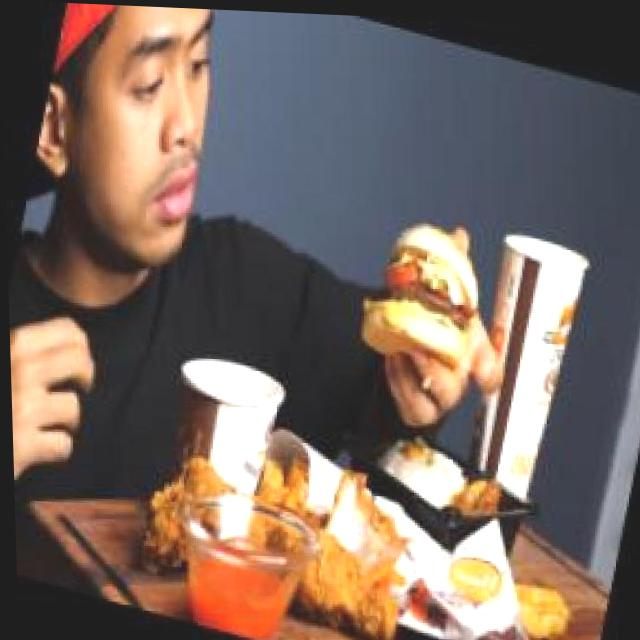AW cola: (442, 197, 604, 491)
black pepper rice bowl: (349, 409, 517, 553)
chicken waffle: (224, 401, 335, 529)
crispy corn: (132, 326, 300, 530)
fried chicken: (112, 404, 438, 640)
mozza burger: (337, 187, 502, 387)
perkedel: (462, 531, 585, 640)
